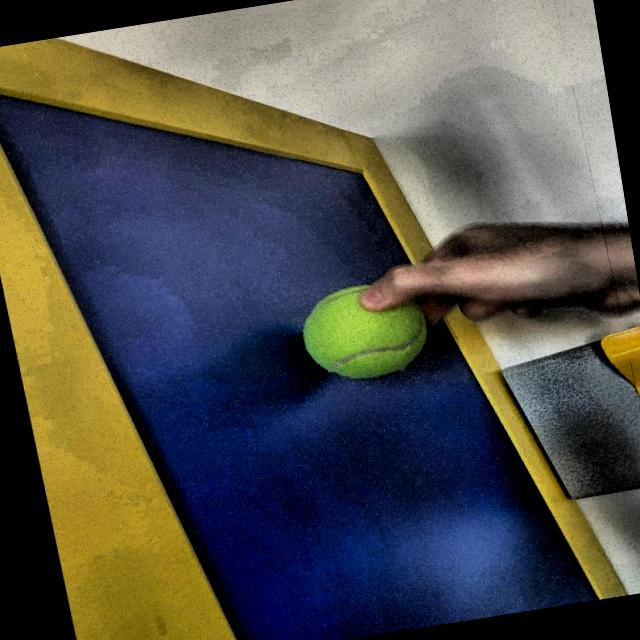Tennis Ball: (281, 268, 434, 402)
